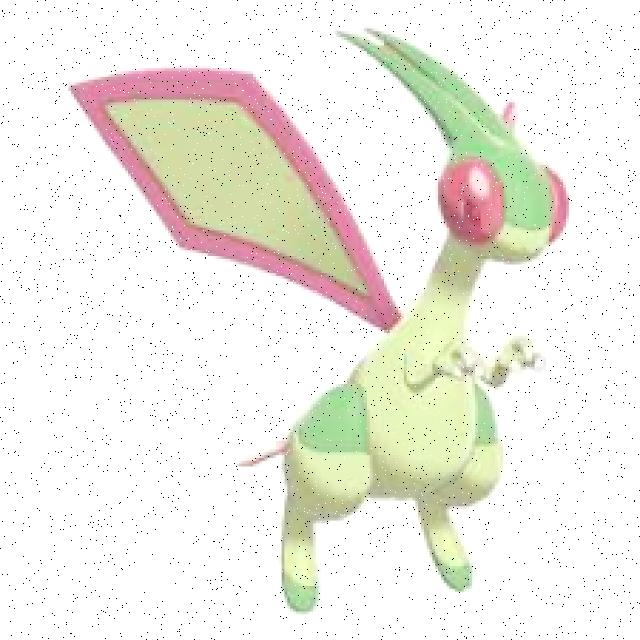flygon: (66, 26, 570, 613)
